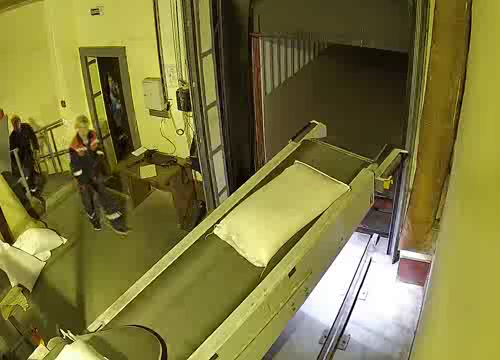bag: (206, 152, 361, 274), (44, 335, 123, 360)
